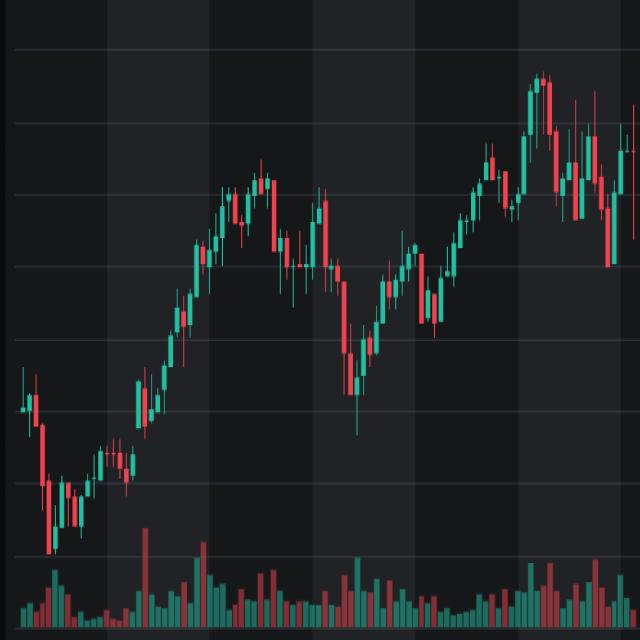Rising-Wedge: (8, 138, 283, 590)
